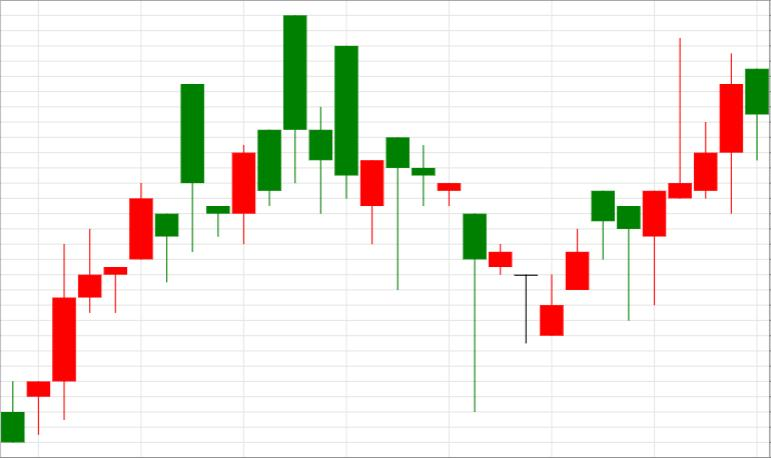hammer_rise: (284, 15, 486, 411)
